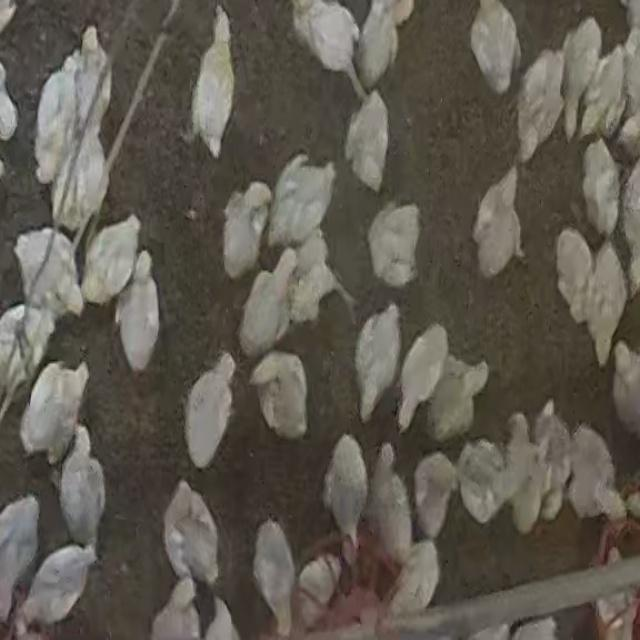chicken: (56, 72, 115, 235), (19, 360, 91, 466), (266, 154, 340, 253), (12, 228, 84, 328), (238, 246, 302, 358), (192, 4, 237, 163), (19, 542, 100, 630), (1, 304, 52, 438), (162, 478, 221, 593), (183, 350, 237, 472), (352, 304, 405, 428), (394, 318, 450, 434), (424, 348, 490, 446), (469, 166, 524, 282), (59, 428, 107, 553), (80, 214, 143, 309), (248, 348, 310, 444), (514, 52, 566, 166), (321, 431, 368, 556), (115, 250, 161, 376), (252, 516, 298, 640), (571, 420, 624, 527), (34, 55, 77, 186), (367, 441, 411, 567), (0, 494, 42, 624), (221, 182, 275, 283), (559, 19, 603, 141), (366, 200, 422, 291), (586, 239, 626, 365), (288, 228, 342, 320), (293, 0, 359, 75), (342, 96, 394, 191), (581, 42, 628, 147), (387, 540, 443, 624), (470, 0, 518, 94), (411, 452, 457, 546), (580, 136, 620, 242), (357, 0, 406, 84), (554, 226, 595, 325), (72, 24, 110, 130), (296, 549, 344, 627), (594, 551, 635, 639), (506, 409, 536, 529), (461, 441, 505, 522), (539, 402, 568, 522), (151, 576, 204, 640), (610, 340, 640, 443)
